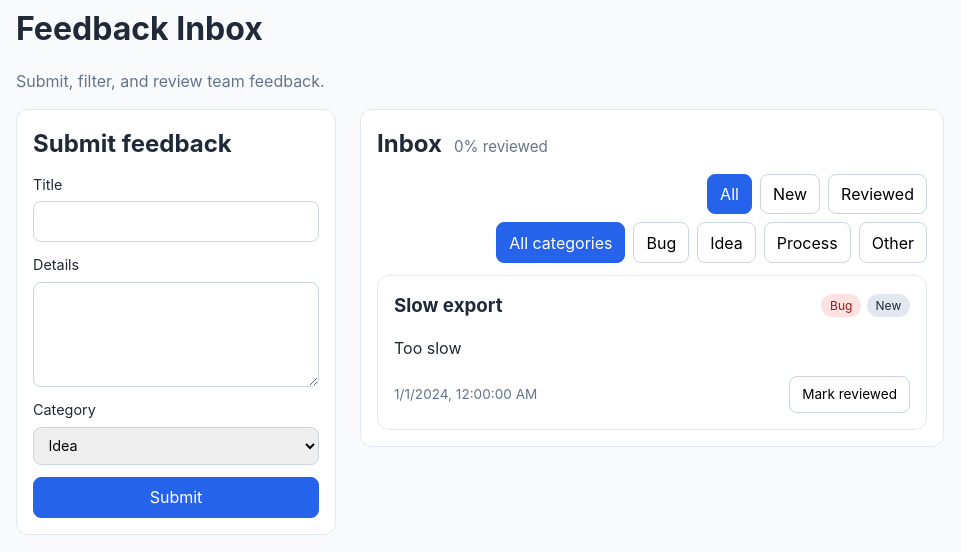
Test case: App › shows the filtered-empty message when an active filter matches nothing
Check: the heading "Slow export" is shown, box [394,292,503,320]
Click the button "Process".
click(807, 243)  # box [764,222,851,263]
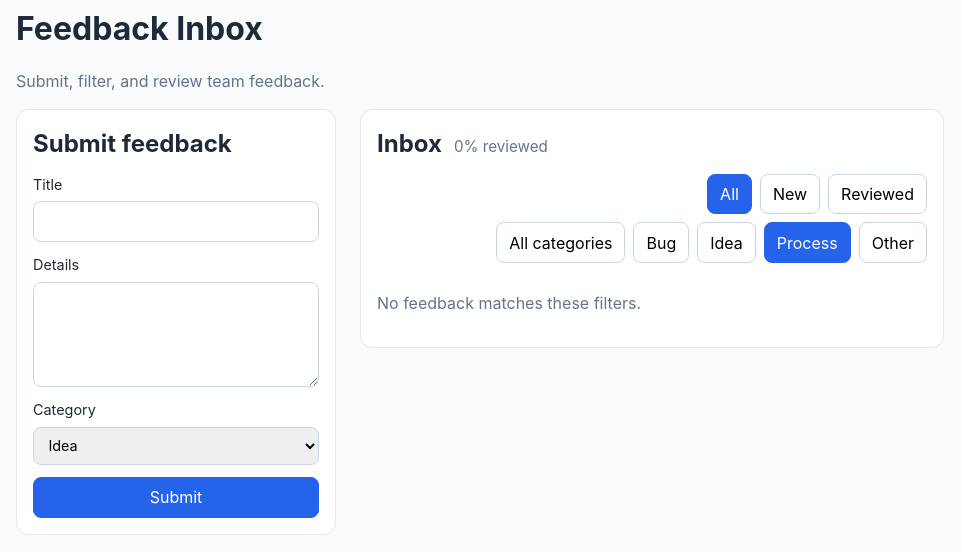
Check: the text "No feedback matches these filters." is shown, box [377,293,641,313]
